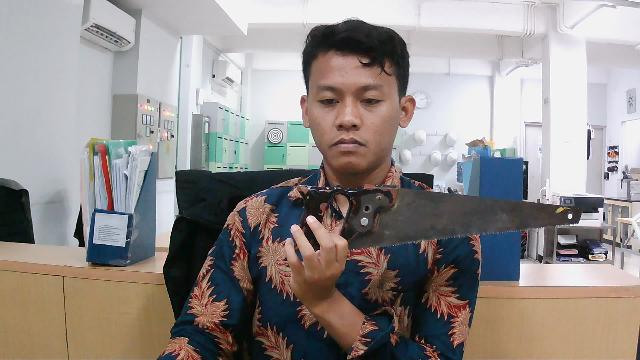gergaji_kayu: (281, 182, 586, 259)
